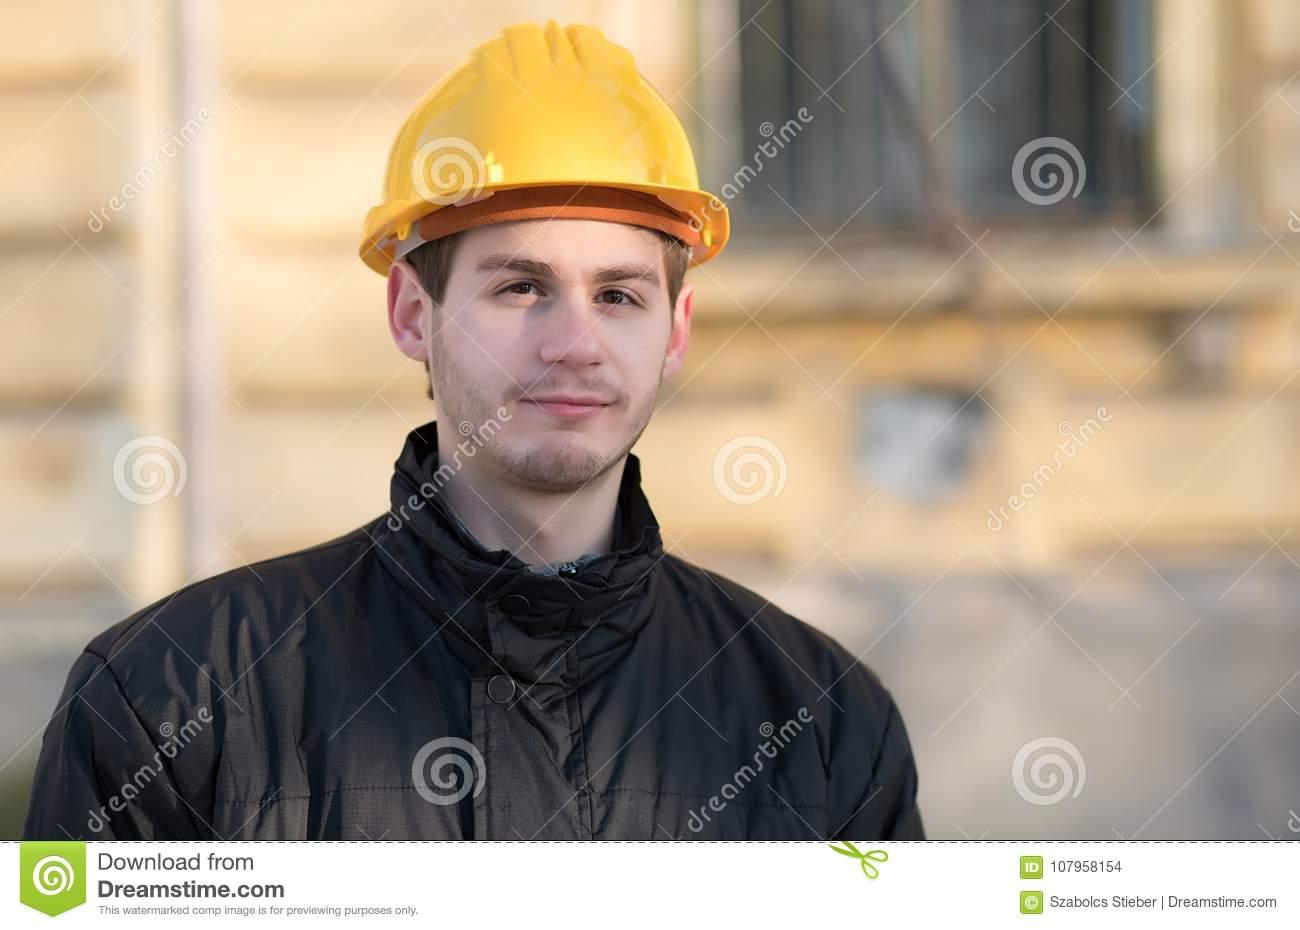helmet: (362, 21, 740, 273)
